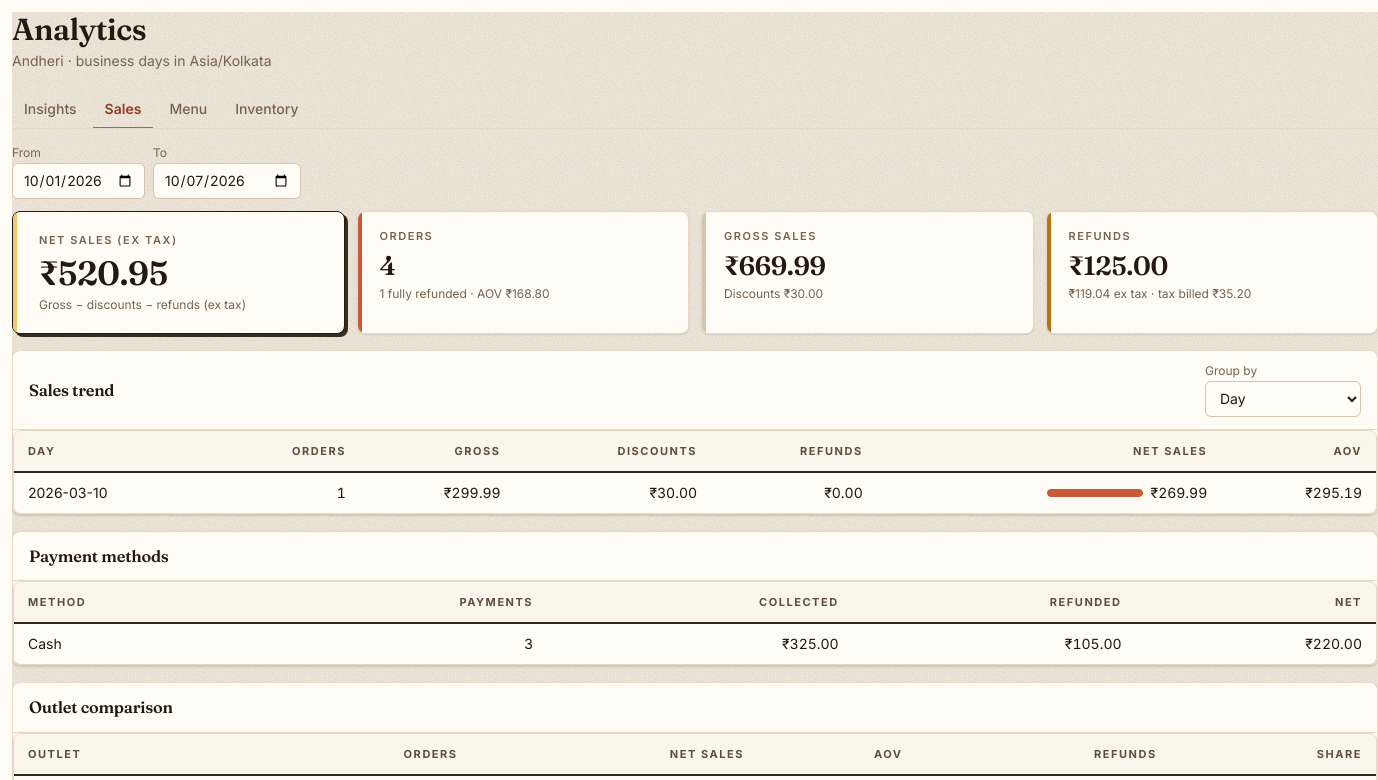
Test: analytics screen › sales tab: KPIs, date-only business-day filters, weekly regrouping, net per method
This screenshot has width=1378, height=780.
Check: the text "₹520.95" is shown, box [39,252,168,294]
Check: the text "2026-03-10" is shown, box [14,472,210,513]
Select "Week (Mon–Sun)" in the dropdown labelled "Group by" at (1283, 399), box [1205,381,1361,417]
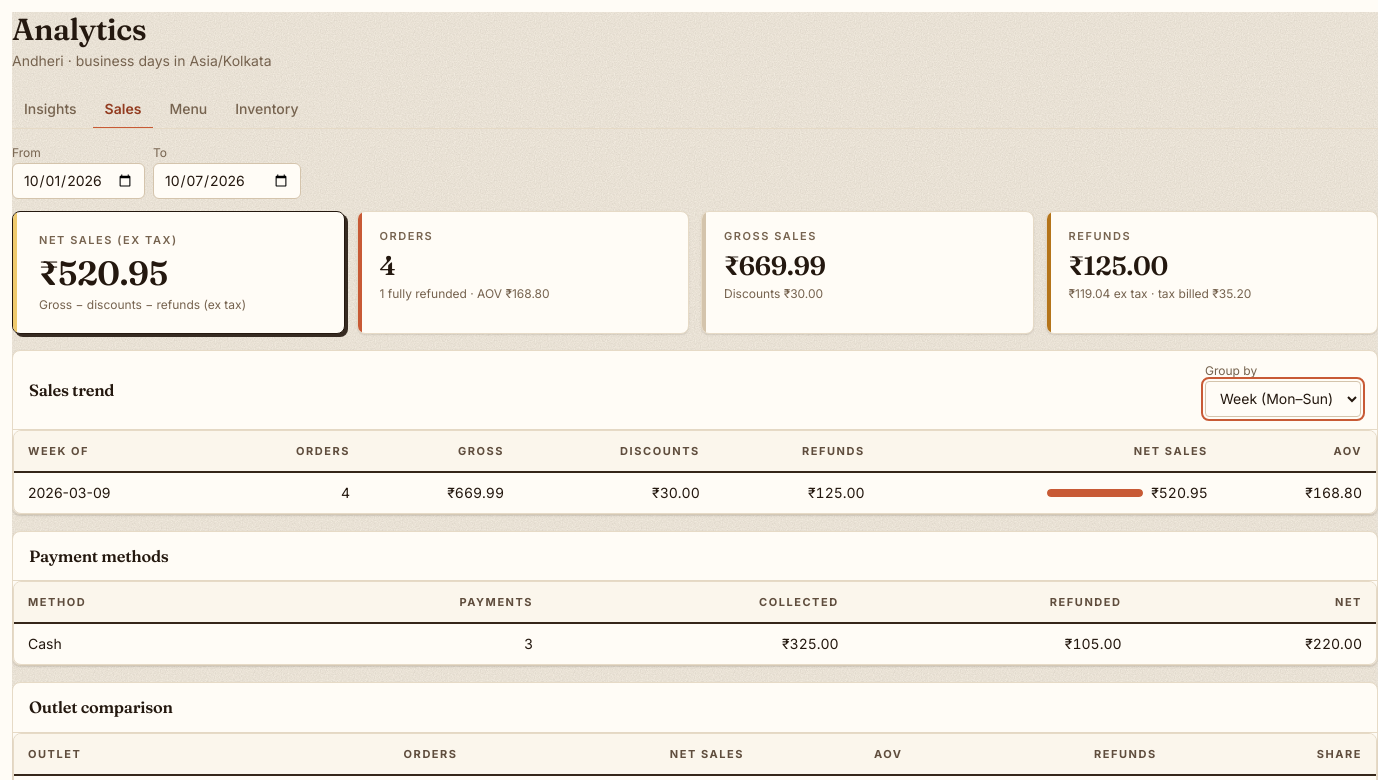
Check: the text "₹220.00" is shown, box [1136,623,1376,664]
Check: the text "2026-03-09" is shown, box [14,472,215,513]
